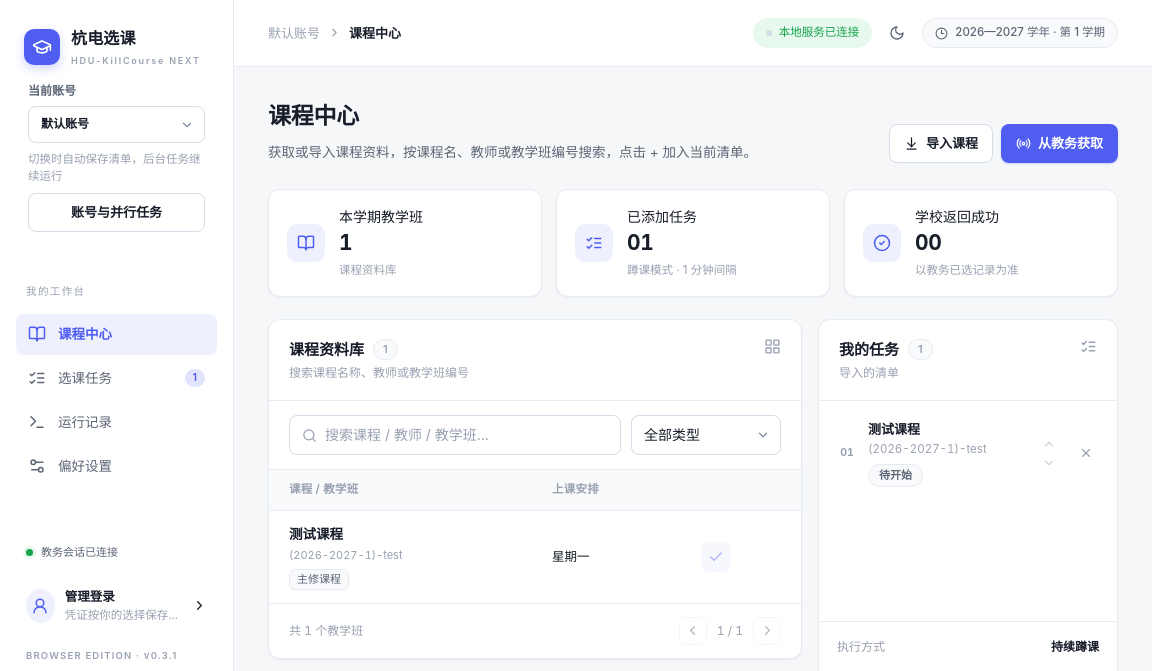
Test: workspace interactions after module extraction › requires confirmation before starting and opens activity after success
Check: the button "测试课程" is shown, box [289,524,343,545]
What coordinates should you click on to do the following:
click the button "选课任务 1"
I would click on:
 (116, 378)
Its box is [16,358,217,399].
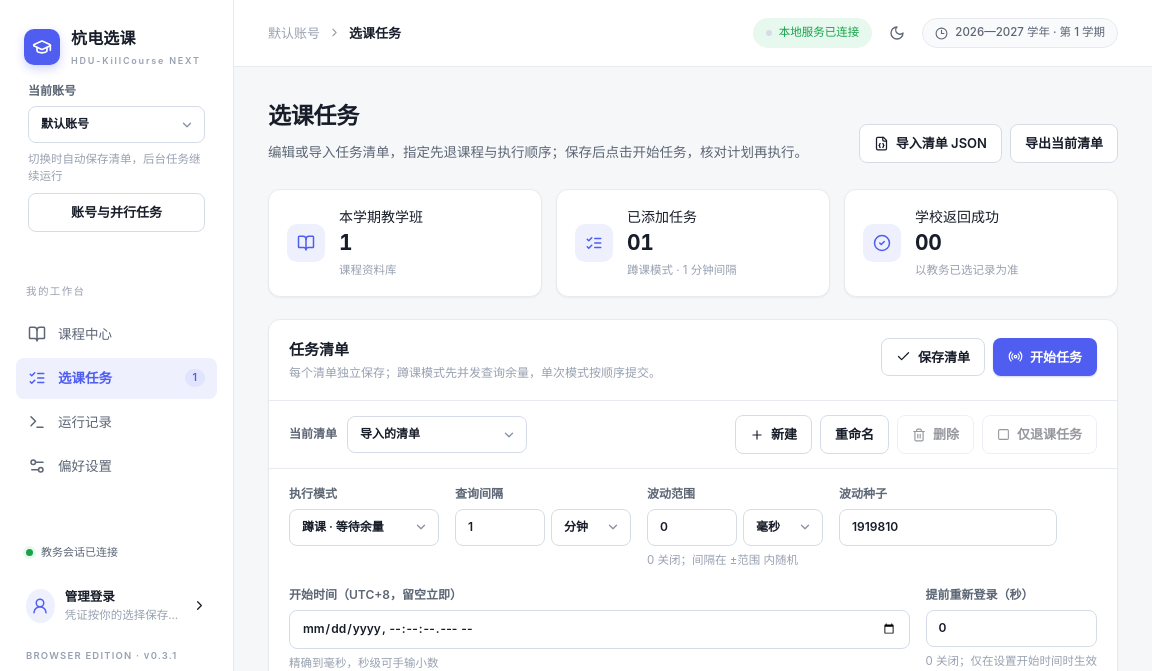
What coordinates should you click on to do the following:
click the button "开始任务"
I would click on:
 (1045, 357)
Its box is [993,338,1097,376].
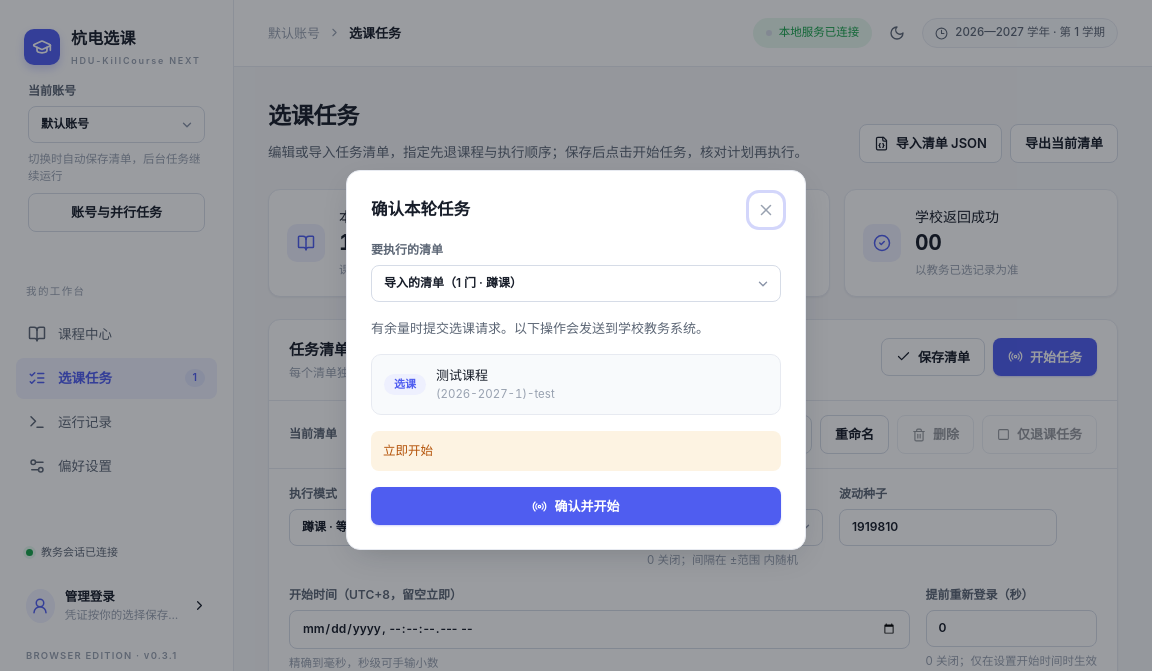
Check: the dialog "确认本轮任务" is shown, box [346,170,806,550]
What coordinates should you click on to do the following:
click the button "确认并开始"
I would click on:
 (576, 506)
Its box is [371,487,781,525].
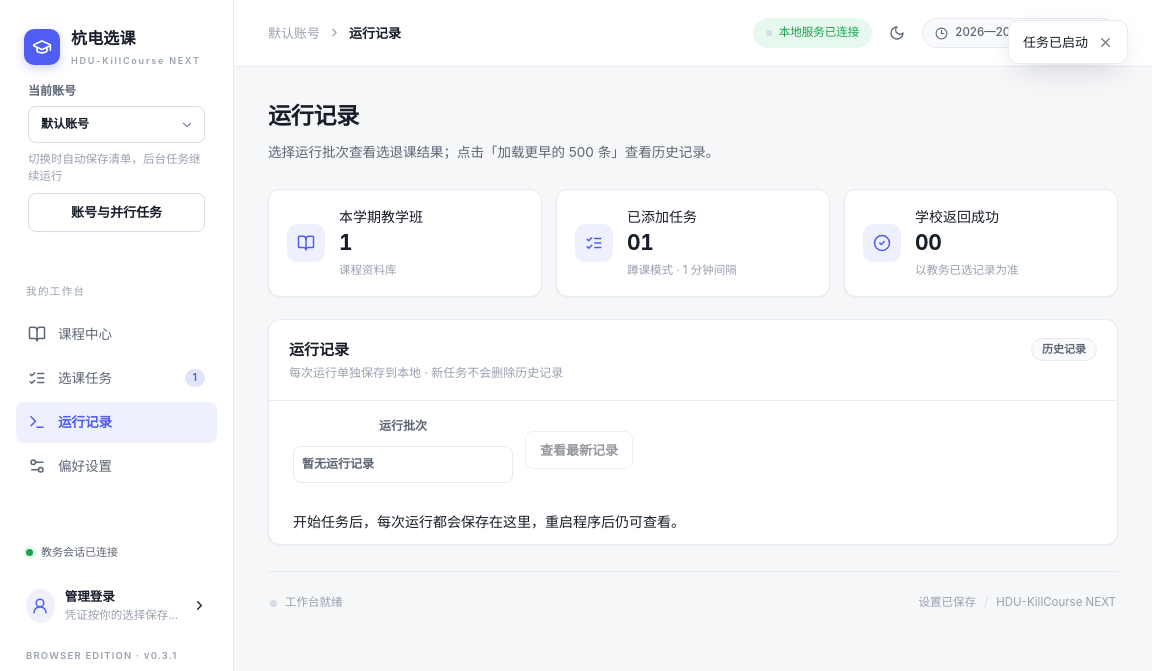
Check: the 1st heading "运行记录" is shown, box [268,102,359,130]
